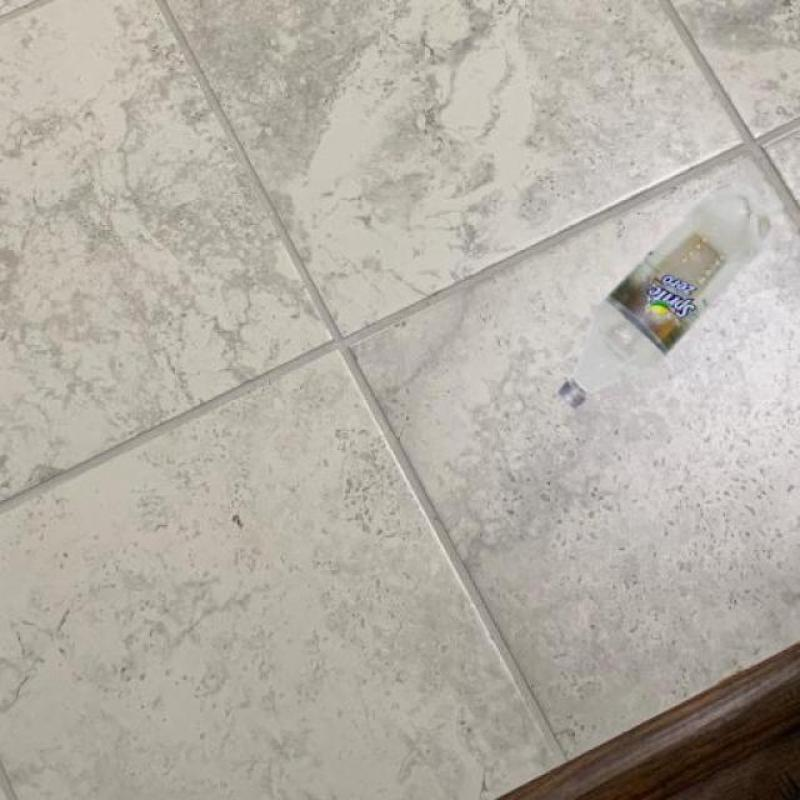botella: (559, 184, 760, 416)
